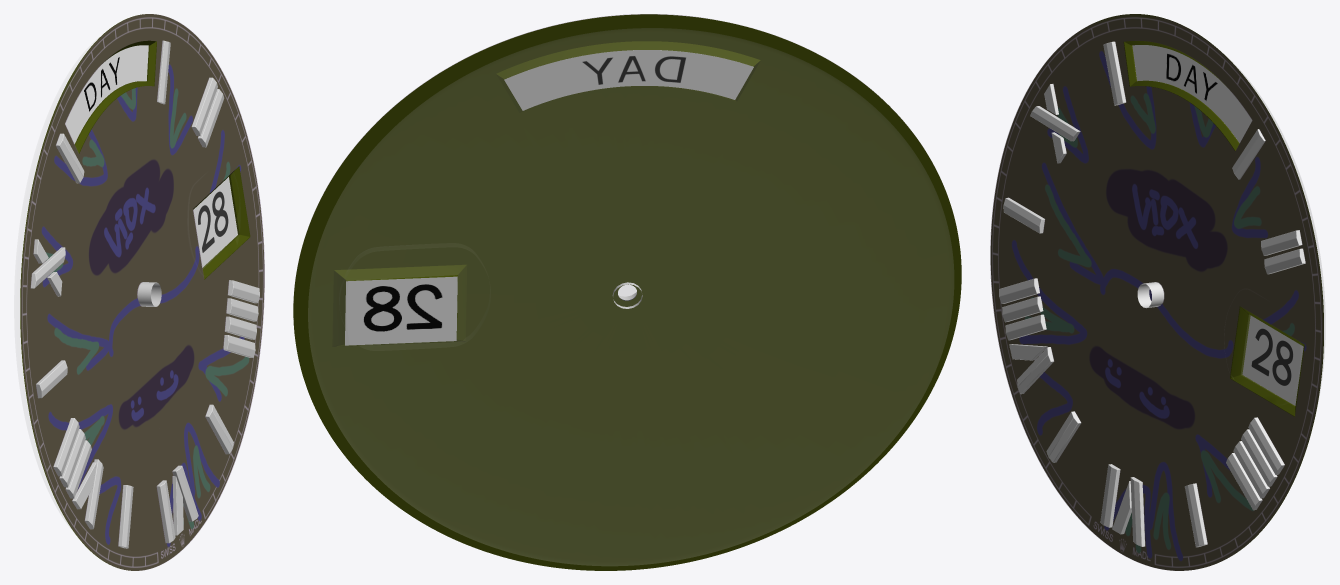
File: vioxDial.draco.glb
3 views of the same model, side by side, from view 1: azimuth 30°, elevation 25°; view 2: azimuth 150°, elevation 25°; view 3: azimuth 270°, elevation 25° (orthographic). The views are drawn at different scales.
Visible parts, largest first — view 1: tablo_logo_32.001, tablo_2.001, numbers_1.001, glass_11, tablo_monday_13.001, tablo_28_14.001, arrow_cylinder_6.001; view 2: tablo_2.001, glass_11, tablo_monday_13.001, tablo_28_14.001; view 3: tablo_logo_32.001, tablo_2.001, numbers_1.001, tablo_monday_13.001, glass_11, tablo_28_14.001, arrow_cylinder_6.001.
Part boxes in pixels (bbox=[...]): tablo_logo_32.001: bbox=[20, 14, 264, 570]; tablo_2.001: bbox=[20, 14, 264, 570]; numbers_1.001: bbox=[30, 40, 259, 548]; glass_11: bbox=[14, 36, 235, 530]; tablo_monday_13.001: bbox=[65, 45, 148, 144]; tablo_28_14.001: bbox=[193, 177, 237, 267]; arrow_cylinder_6.001: bbox=[137, 282, 161, 306]; tablo_2.001: bbox=[293, 14, 961, 570]; glass_11: bbox=[308, 28, 953, 565]; tablo_monday_13.001: bbox=[504, 50, 753, 110]; tablo_28_14.001: bbox=[345, 276, 457, 345]; tablo_logo_32.001: bbox=[990, 14, 1323, 570]; tablo_2.001: bbox=[990, 14, 1323, 570]; numbers_1.001: bbox=[999, 41, 1305, 547]; tablo_monday_13.001: bbox=[1132, 45, 1252, 143]; glass_11: bbox=[1232, 62, 1325, 404]; tablo_28_14.001: bbox=[1242, 315, 1303, 405]; arrow_cylinder_6.001: bbox=[1137, 282, 1164, 308].
Size of the model in its own units: 0.019 by 0.0228 by 0.0139.
8 materials, 3 textured.
